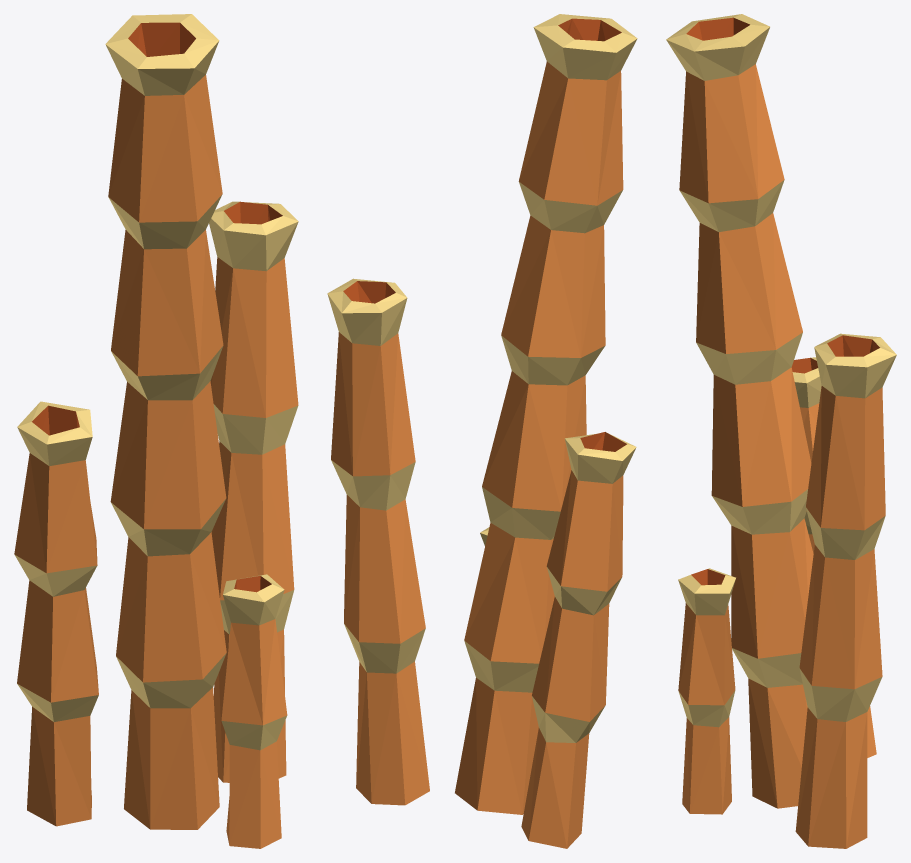
The model's file is coral_pillar_orange.fbx.
The picture shows the model from 3 angles, left to right: view 1: azimuth 30°, elevation 25°; view 2: azimuth 150°, elevation 25°; view 3: azimuth 270°, elevation 25°; orthographic projection. The views are drawn at different scales.
Visible parts, largest first — view 1: coral_pillar_orange; view 2: coral_pillar_orange; view 3: coral_pillar_orange.
Part boxes in pixels (x1,y1,x2,y2): coral_pillar_orange: (14,14,298,848); coral_pillar_orange: (327,14,637,848); coral_pillar_orange: (666,14,896,848).
Size of the model in its own units: 702 by 1892 by 530.
1 material, 1 textured.
